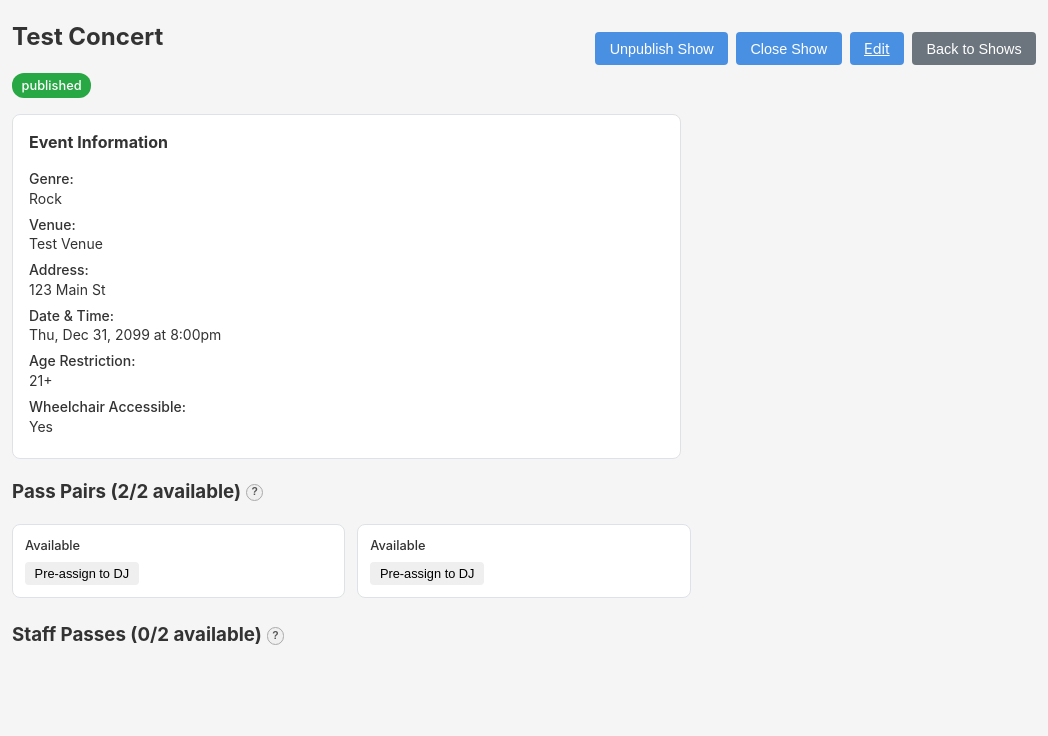
Test: Promotions ShowDetail — Suggest DJs › suggests by genre, saves the accepted suggestion, and advances to the next pass pair
Click the 1st button "Pre-assign to DJ". click: (82, 574)
box: left=25, top=562, right=139, bottom=585
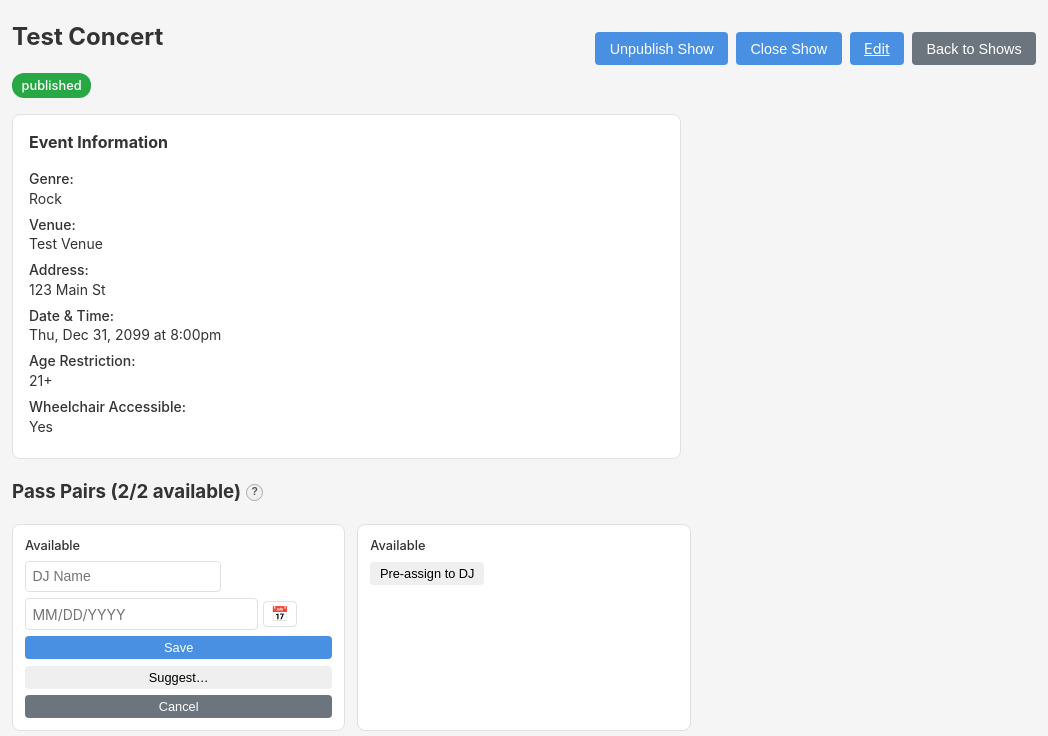
Type "12/20/2099" into the field with placeholder "MM/DD/YYYY". click: (141, 614)
box: left=25, top=598, right=258, bottom=630
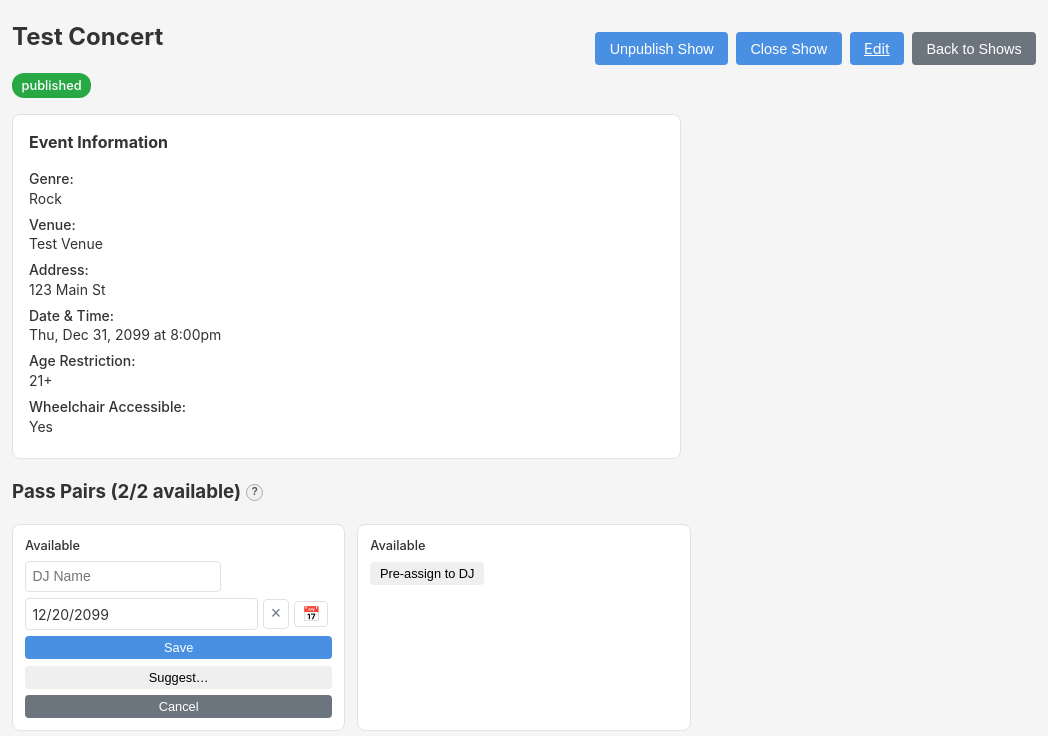
Click the button "Suggest…". click: (179, 677)
box: left=25, top=666, right=332, bottom=689
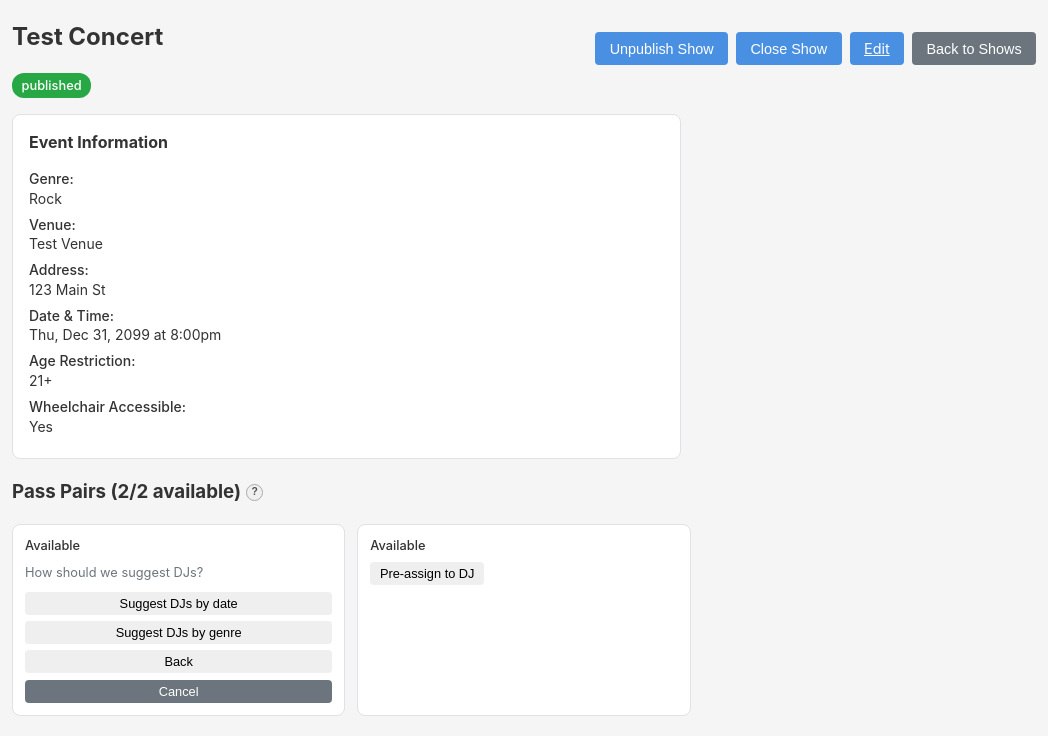
Click the button "Suggest DJs by genre". click: (179, 632)
box: left=25, top=621, right=332, bottom=644
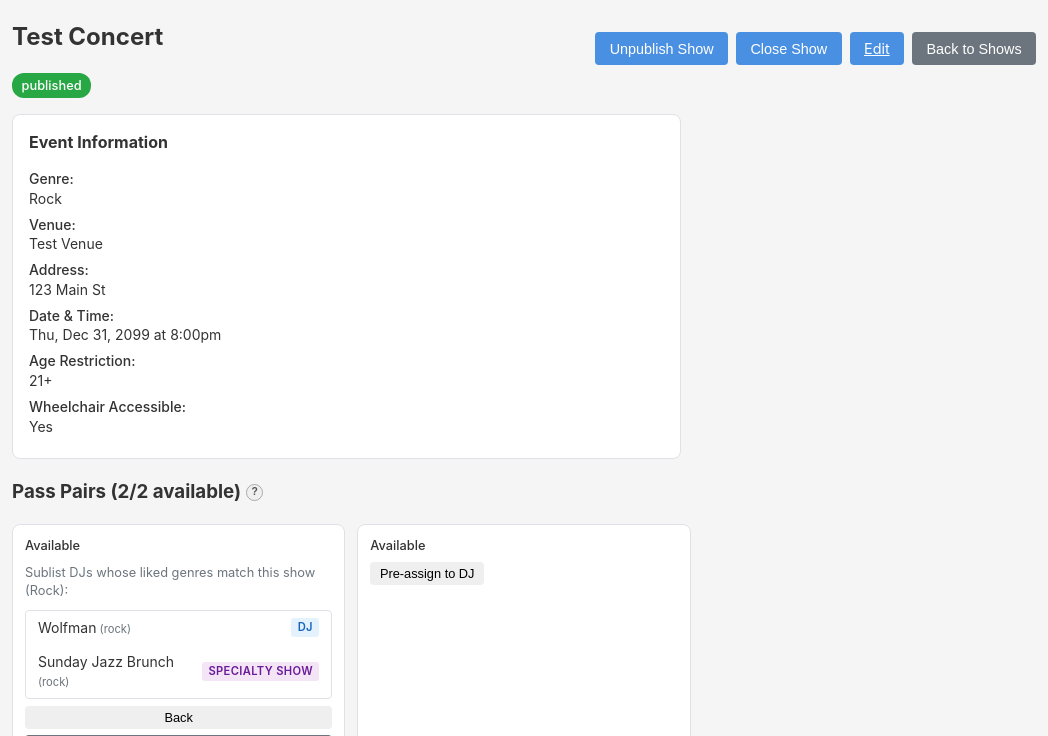
Click the text "Wolfman". click: (85, 628)
box: left=38, top=618, right=131, bottom=637
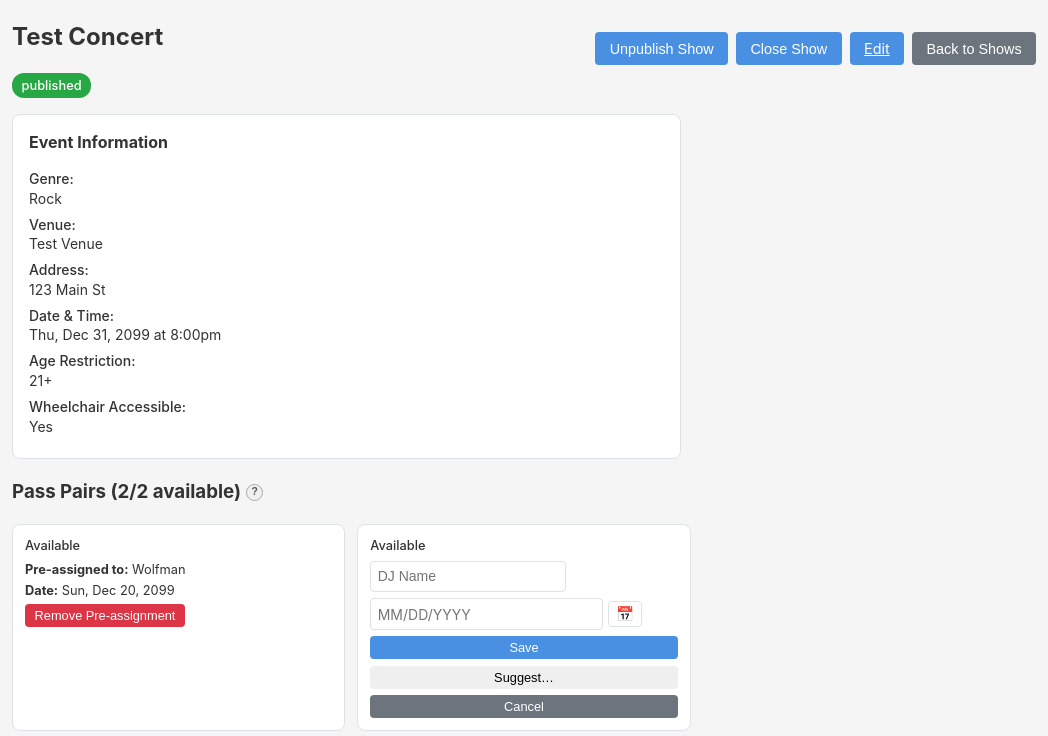
Check: the button "Suggest…" is shown, box left=370, top=666, right=678, bottom=689
Check: the list with class "suggestion-list" is gone
Check: the field with placeholder "MM/DD/YYYY" is empty, box left=370, top=598, right=603, bottom=630
